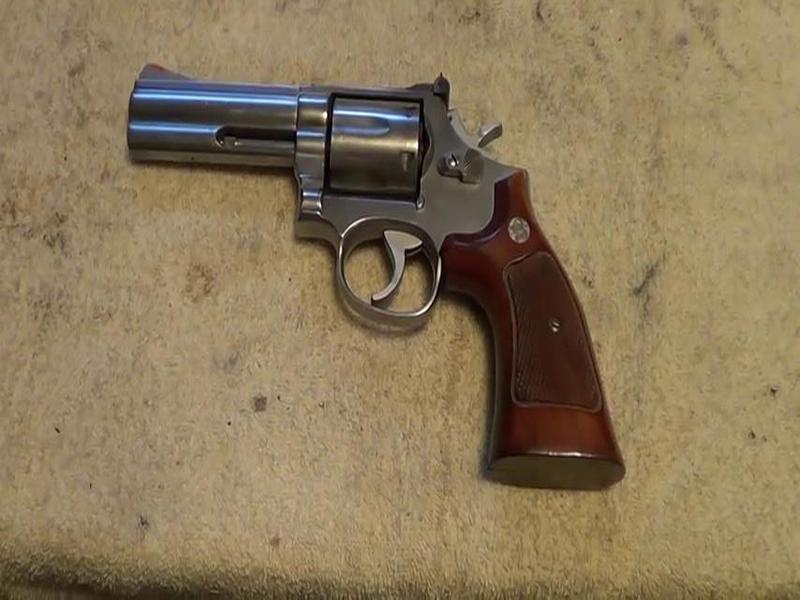Revolver: (98, 45, 646, 502)
